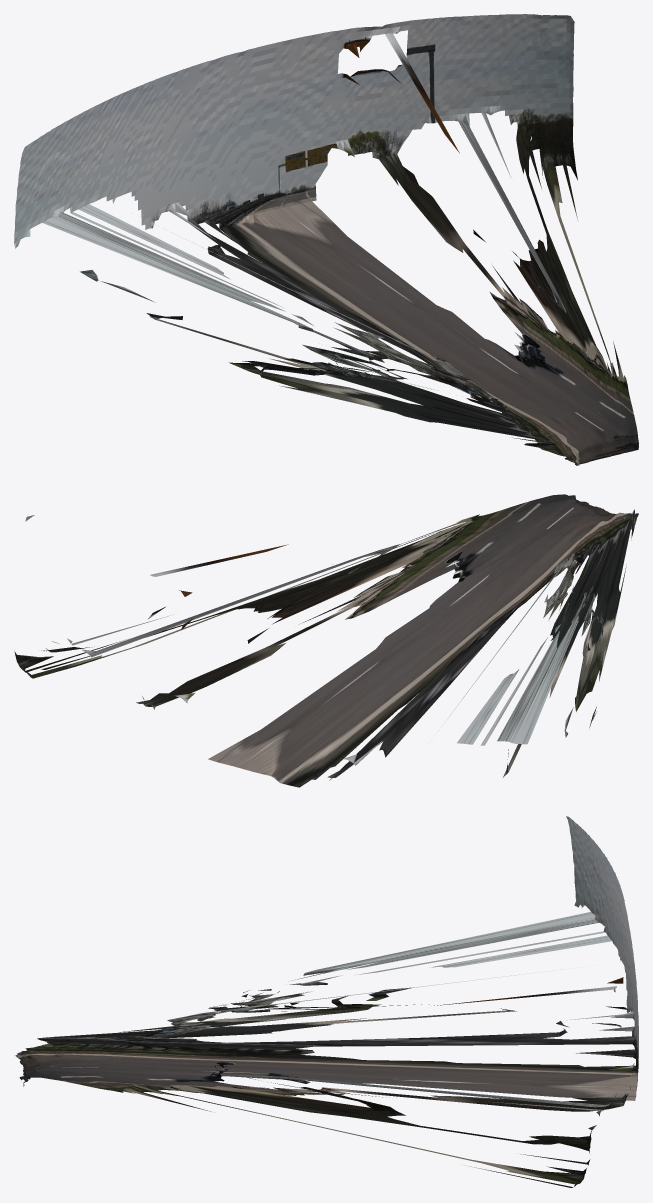
The picture shows the model from 3 angles, top to bottom: view 1: azimuth 30°, elevation 25°; view 2: azimuth 150°, elevation 25°; view 3: azimuth 270°, elevation 25°; orthographic projection. The views are drawn at different scales.
Visible parts, largest first — view 1: defaultobject; view 2: defaultobject; view 3: defaultobject.
Boxes of the visible parts, x1,y1,x2,y2 form: defaultobject: [14, 14, 638, 465]; defaultobject: [14, 494, 638, 787]; defaultobject: [14, 816, 638, 1187].
Size of the model in its own units: 41.09 by 12.86 by 44.71.
1 material, 1 textured.
